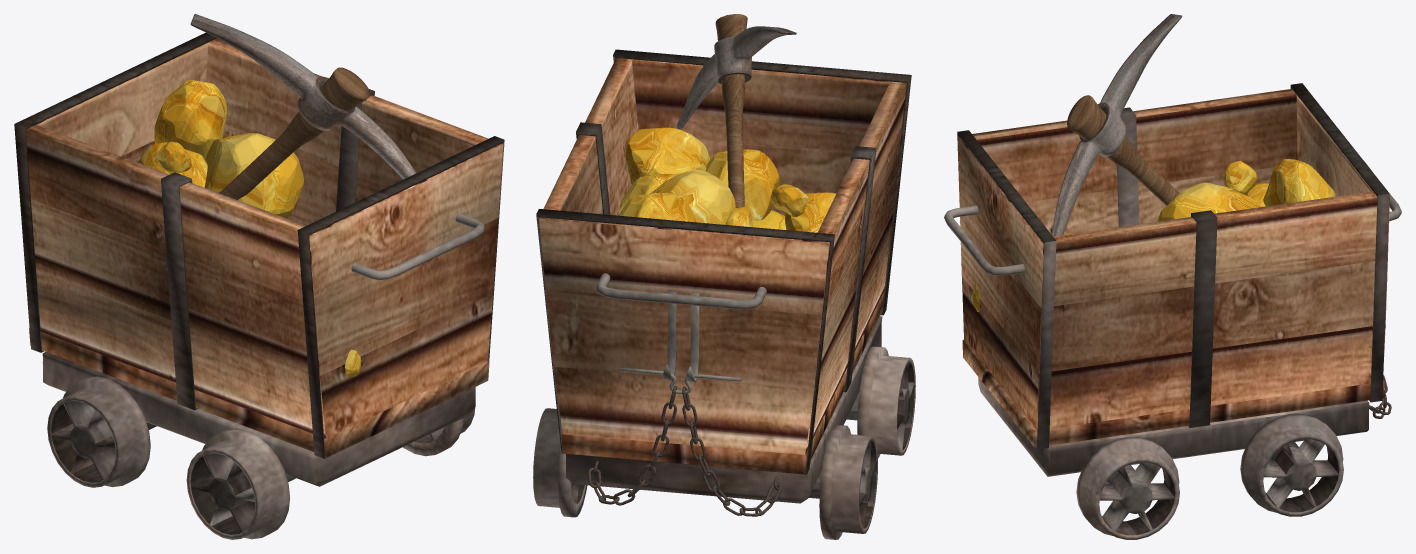
The model's file is cart.fbx.
3 renders of one model, left to right at view 1: azimuth 30°, elevation 25°; view 2: azimuth 150°, elevation 25°; view 3: azimuth 270°, elevation 25°, orthographic. The views are drawn at different scales.
Visible parts, largest first — view 1: Cart_LP.019, Cart_LP.014, Cart_LP.020, Cart_LP.018, Cylinder003, Cart_LP.015, Cart_LP.017, Cart_LP.016, Cube.125, Cube.130, Cylinder004, Cart_LP.022 (+2 smaller); view 2: Cart_LP.019, Cart_LP.018, Cart_LP.020, Cart_LP.014, Cart_LP.016, Cube.126, Cart_LP.017, Cylinder003, Cylinder004, Cart_LP.015, Cube.125, Cube.127 (+8 smaller); view 3: Cart_LP.019, Cart_LP.018, Cart_LP.014, Cart_LP.020, Cart_LP.015, Cylinder003, Cart_LP.017, Cart_LP.016, Cylinder004, Cube.130, Cube.125, Cart_LP.022 (+1 smaller).
Boxes of the visible parts, left/top/right/bottom form: Cart_LP.019: left=25, top=38, right=503, bottom=456; Cart_LP.014: left=186, top=407, right=475, bottom=539; Cart_LP.020: left=42, top=352, right=475, bottom=486; Cart_LP.018: left=47, top=376, right=156, bottom=487; Cylinder003: left=190, top=14, right=416, bottom=179; Cart_LP.015: left=161, top=89, right=374, bottom=410; Cart_LP.017: left=297, top=136, right=504, bottom=458; Cart_LP.016: left=14, top=32, right=216, bottom=352; Cube.125: left=204, top=133, right=303, bottom=218; Cube.130: left=154, top=80, right=226, bottom=159; Cylinder004: left=219, top=67, right=369, bottom=199; Cart_LP.022: left=351, top=213, right=484, bottom=280; Cart_LP.019: left=538, top=58, right=906, bottom=474; Cart_LP.018: left=533, top=408, right=877, bottom=539; Cart_LP.020: left=566, top=316, right=882, bottom=503; Cart_LP.014: left=846, top=346, right=915, bottom=458; Cart_LP.016: left=536, top=209, right=834, bottom=474; Cube.126: left=625, top=127, right=709, bottom=184; Cart_LP.017: left=613, top=49, right=911, bottom=315; Cylinder003: left=676, top=26, right=796, bottom=129; Cylinder004: left=715, top=14, right=747, bottom=207; Cart_LP.015: left=576, top=122, right=876, bottom=392; Cube.125: left=650, top=169, right=735, bottom=224; Cube.127: left=705, top=149, right=779, bottom=220; Cart_LP.019: left=957, top=89, right=1389, bottom=447; Cart_LP.018: left=1240, top=414, right=1343, bottom=516; Cart_LP.014: left=1076, top=437, right=1179, bottom=539; Cart_LP.020: left=978, top=377, right=1369, bottom=476; Cart_LP.015: left=1117, top=107, right=1217, bottom=427; Cylinder003: left=1051, top=14, right=1182, bottom=236; Cart_LP.017: left=957, top=130, right=1056, bottom=449; Cart_LP.016: left=1290, top=83, right=1389, bottom=402; Cylinder004: left=1067, top=95, right=1179, bottom=205; Cube.130: left=1263, top=159, right=1335, bottom=206; Cube.125: left=1157, top=182, right=1263, bottom=221; Cart_LP.022: left=944, top=205, right=1024, bottom=275.
Size of the model in its own units: 7.99 by 10.07 by 9.7.
4 materials, 4 textured.
